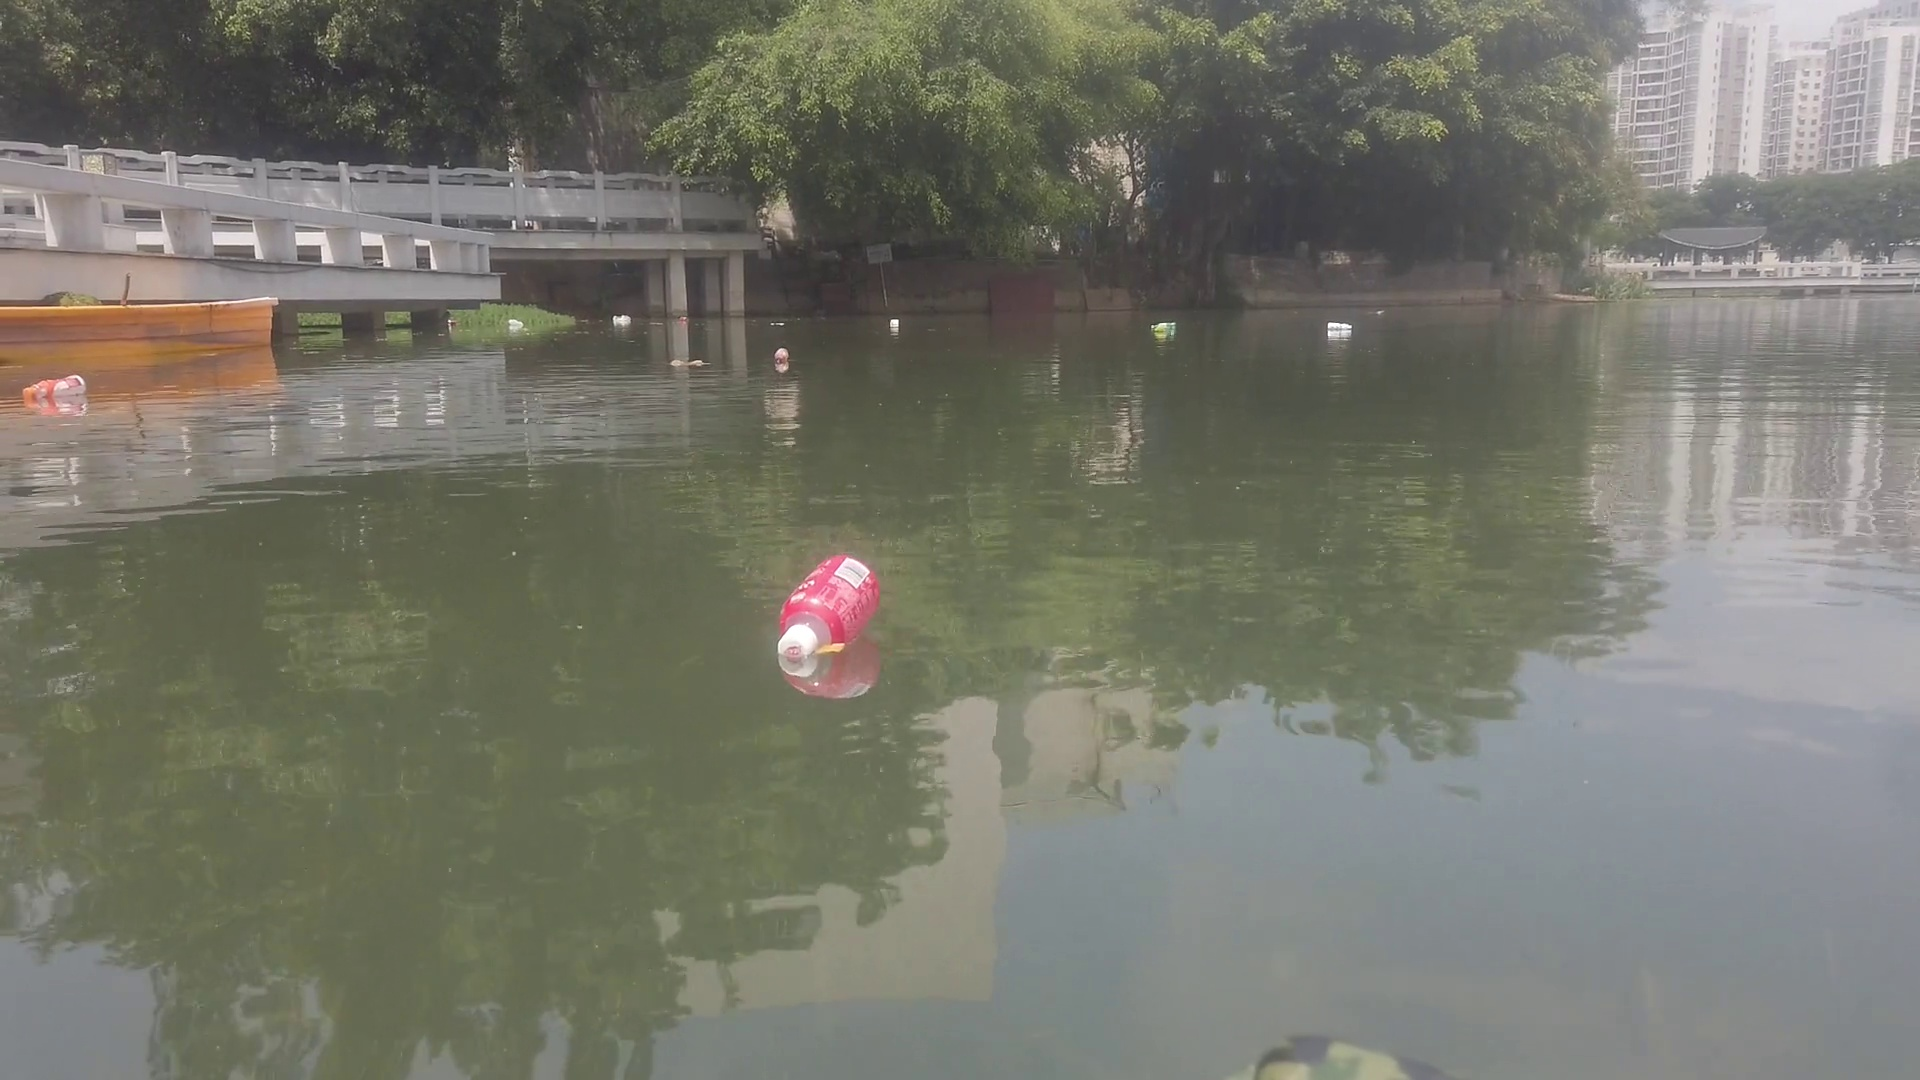bottle: (765, 543, 886, 665), (18, 371, 88, 398), (1147, 319, 1179, 338), (1324, 320, 1354, 338), (771, 343, 790, 365), (444, 316, 459, 328), (676, 314, 691, 324)
carton: (890, 316, 901, 328)
paper: (667, 356, 709, 369), (771, 319, 785, 326)
plastic: (611, 313, 636, 320), (508, 319, 526, 328)
